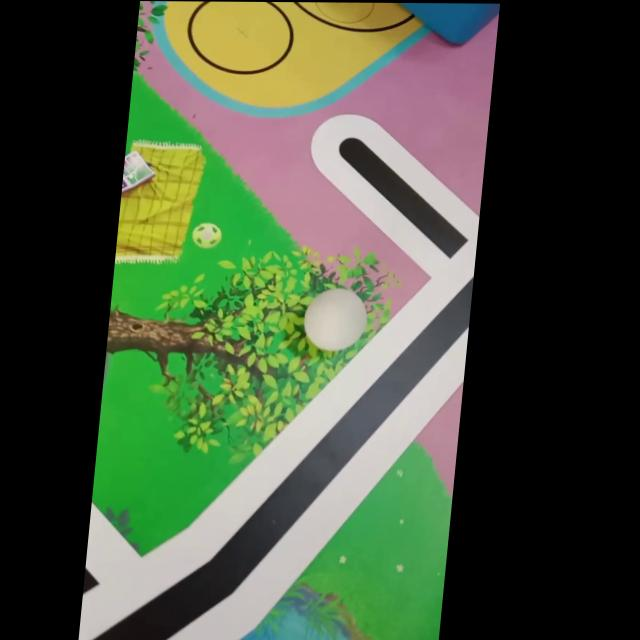white ball: (300, 287, 371, 352)
